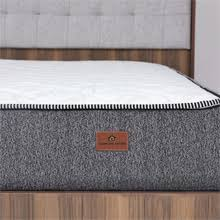bed-matress: (1, 59, 217, 187)
